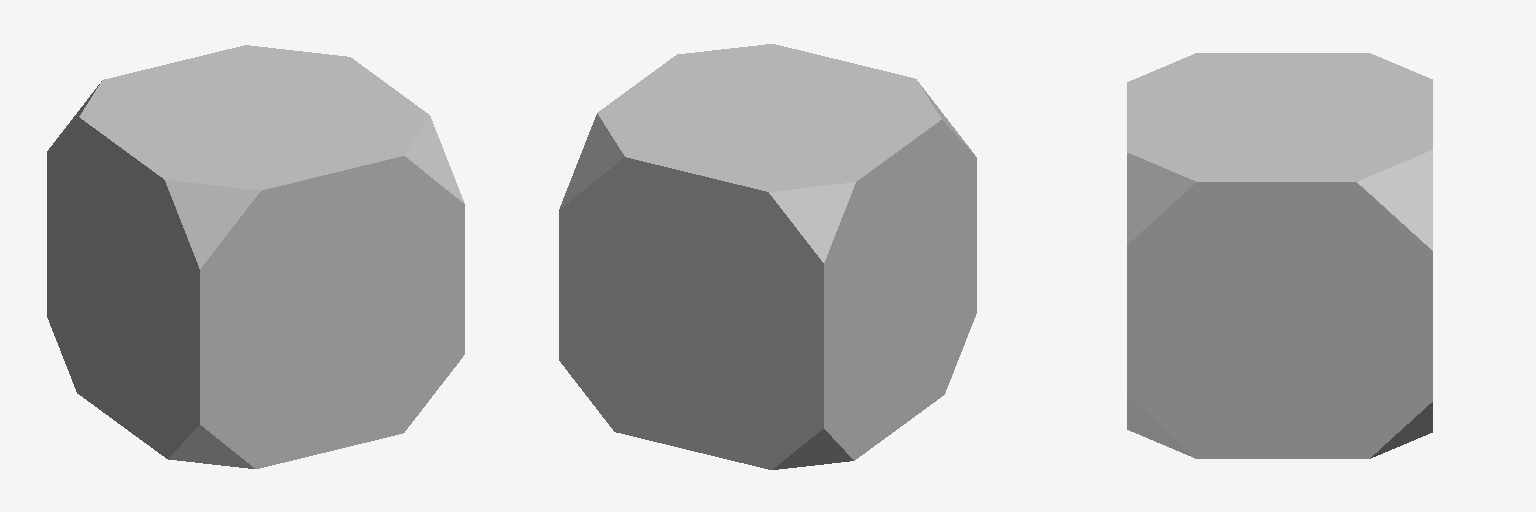
The model's file is cube_cutted.obj.
The picture shows the model from 3 angles: view 1: azimuth 30°, elevation 25°; view 2: azimuth 150°, elevation 25°; view 3: azimuth 270°, elevation 25°; orthographic projection.
Bounding box in the file's own units: 2 × 2 × 2.